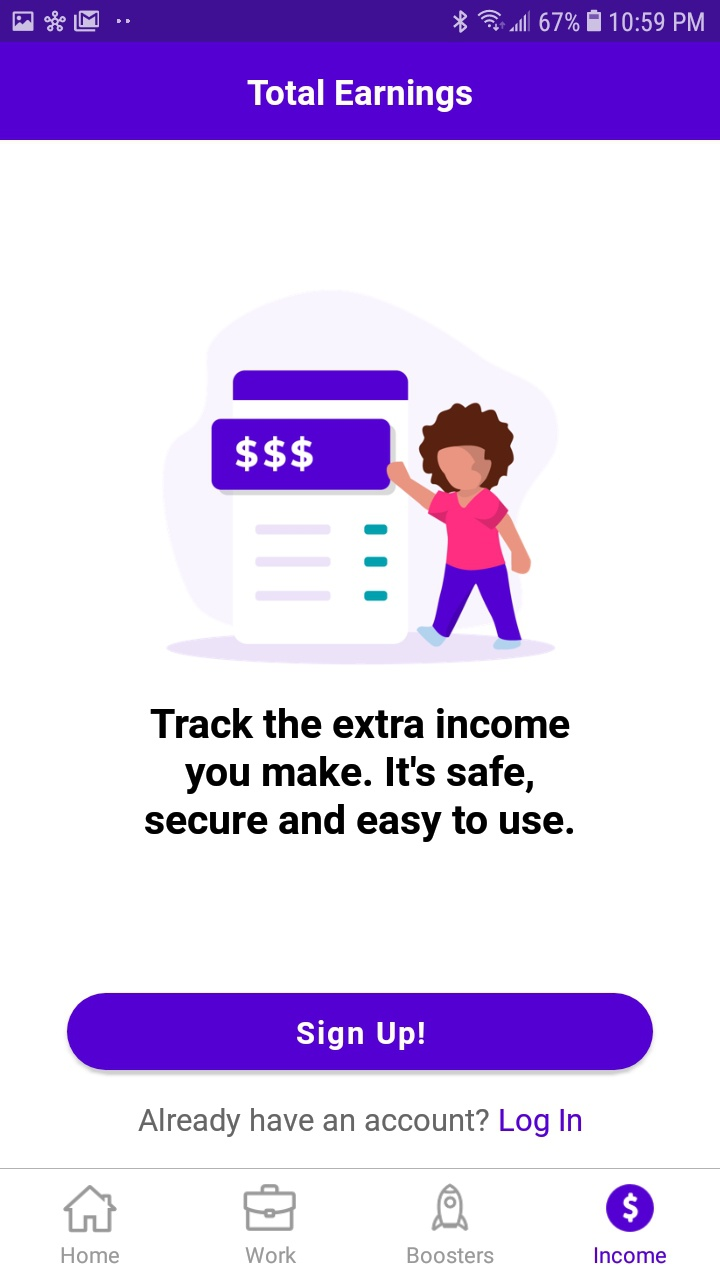Icon: (63, 1184, 118, 1233), (243, 1184, 297, 1232), (606, 1183, 655, 1233)
Image: (163, 290, 559, 667), (431, 1184, 469, 1232)
Text: (145, 707, 574, 843), (138, 1108, 582, 1138), (246, 79, 473, 114), (407, 1246, 494, 1264), (594, 1246, 667, 1264), (62, 1246, 120, 1264), (245, 1245, 297, 1264)
TextButton: (67, 993, 654, 1071)
UpperTaskBar: (1, 1, 720, 43)
